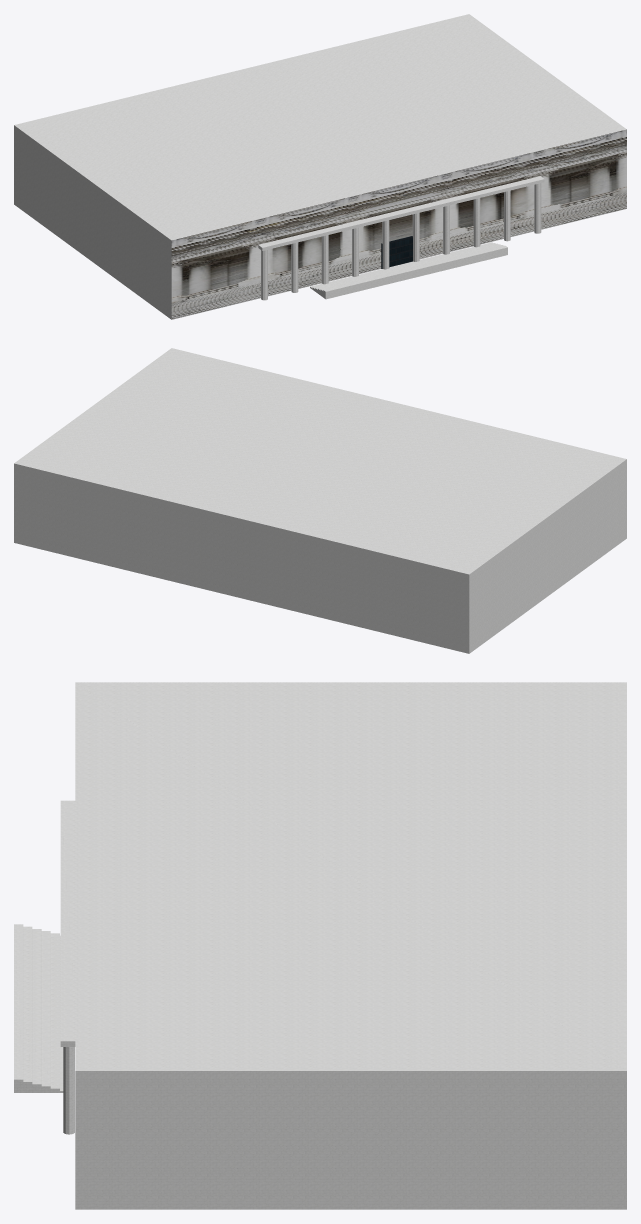
File: museum-of-art_lod0.gltf
3 renders of one model, top to bottom at view 1: azimuth 30°, elevation 25°; view 2: azimuth 150°, elevation 25°; view 3: azimuth 270°, elevation 25°, orthographic. The views are drawn at different scales.
Parts seen in each view (by area): view 1: museum-of-art_main, museum-of-art_front, museum-of-art_colonnade, museum-of-art_stairs, museum-of-art__entry_doors; view 2: museum-of-art_main; view 3: museum-of-art_main, museum-of-art_stairs, museum-of-art_colonnade.
Part boxes in pixels (left/top/right/bottom): museum-of-art_main: left=14, top=14, right=626, bottom=319; museum-of-art_front: left=171, top=129, right=626, bottom=319; museum-of-art_colonnade: left=258, top=176, right=544, bottom=300; museum-of-art_stairs: left=310, top=242, right=507, bottom=299; museum-of-art__entry_doors: left=381, top=236, right=412, bottom=268; museum-of-art_main: left=14, top=348, right=626, bottom=653; museum-of-art_main: left=75, top=682, right=626, bottom=1209; museum-of-art_stairs: left=14, top=924, right=63, bottom=1092; museum-of-art_colonnade: left=60, top=800, right=75, bottom=1134.
Size of the model in its own units: 150 by 25 by 100.
